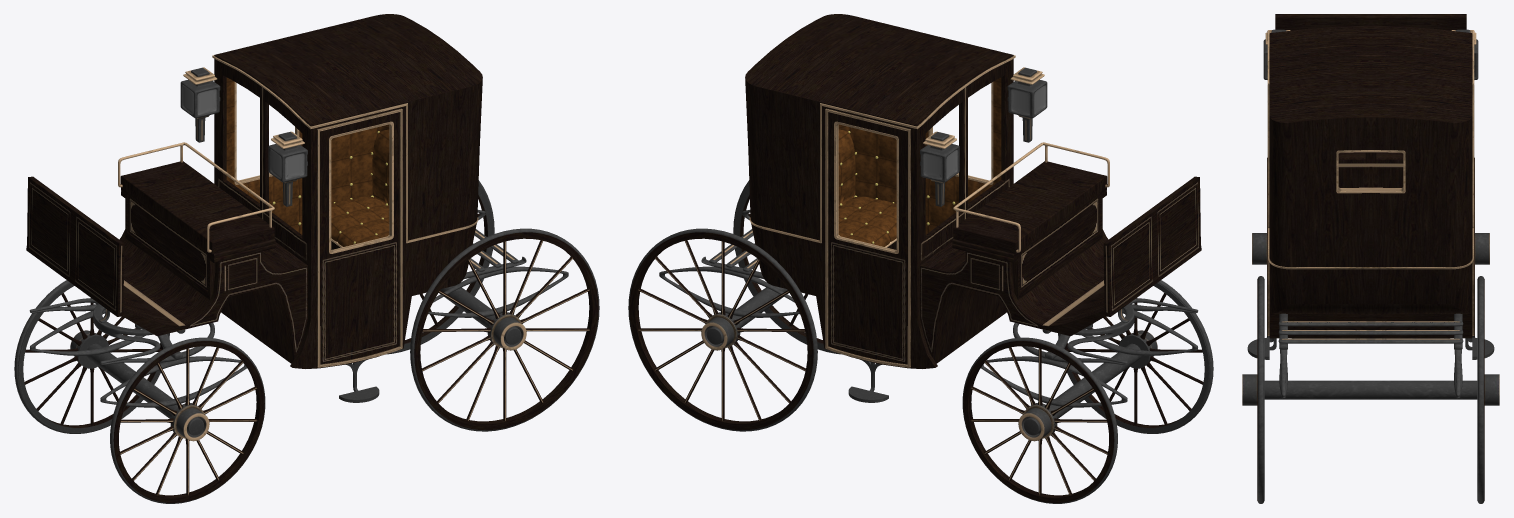
Rendered from kereta.glb.
3 renders of one model, left to right at view 1: azimuth 30°, elevation 25°; view 2: azimuth 150°, elevation 25°; view 3: azimuth 270°, elevation 25°, orthographic. The views are drawn at different scales.
Parts seen in each view (by area): view 1: Cube, Cube.001, Cube.002, Cylinder.002, Cylinder, Plane.003, Cylinder.003, Cube.005, Cylinder.001, Plane.001, BezierCurve, Cube.003 (+6 smaller); view 2: Cube, Cube.001, Cube.002, Cylinder.002, Cylinder, Plane.003, Cylinder.003, Cube.005, Cylinder.001, Plane.001, BezierCurve, Cube.003 (+6 smaller); view 3: Cube, Cylinder, Cube.012, Cube.001, BezierCurve.001, Cylinder.002, BezierCurve, Cube.015, Cube.010, Cube.006, Cube.005, Cube.011.
Part boxes in pixels (bbox=[...]): Cube: bbox=[214, 14, 482, 368]; Cube.001: bbox=[26, 176, 307, 363]; Cube.002: bbox=[120, 161, 275, 299]; Cylinder.002: bbox=[14, 280, 265, 503]; Cylinder: bbox=[386, 180, 599, 431]; Plane.003: bbox=[226, 77, 389, 234]; Cylinder.003: bbox=[24, 293, 257, 495]; Cube.005: bbox=[180, 67, 307, 206]; Cylinder.001: bbox=[419, 213, 589, 420]; Plane.001: bbox=[331, 129, 389, 246]; BezierCurve: bbox=[317, 108, 402, 367]; Cube.003: bbox=[30, 309, 246, 407]; Cube: bbox=[745, 14, 1013, 368]; Cube.001: bbox=[920, 176, 1201, 363]; Cube.002: bbox=[952, 161, 1107, 299]; Cylinder.002: bbox=[962, 280, 1213, 503]; Cylinder: bbox=[628, 180, 841, 431]; Plane.003: bbox=[838, 77, 1001, 234]; Cylinder.003: bbox=[970, 293, 1203, 495]; Cube.005: bbox=[920, 67, 1047, 206]; Cylinder.001: bbox=[638, 213, 808, 420]; Plane.001: bbox=[838, 129, 896, 246]; BezierCurve: bbox=[825, 108, 910, 367]; Cube.003: bbox=[981, 309, 1197, 407]; Cube: bbox=[1269, 25, 1472, 338]; Cylinder: bbox=[1242, 276, 1499, 503]; Cube.012: bbox=[1278, 321, 1463, 343]; Cube.001: bbox=[1275, 14, 1466, 157]; BezierCurve.001: bbox=[1268, 33, 1473, 269]; Cylinder.002: bbox=[1252, 157, 1489, 342]; BezierCurve: bbox=[1267, 42, 1474, 335]; Cube.015: bbox=[1336, 150, 1405, 193]; Cube.010: bbox=[1279, 349, 1462, 398]; Cube.006: bbox=[1247, 337, 1494, 359]; Cube.005: bbox=[1263, 29, 1478, 79]; Cube.011: bbox=[1279, 313, 1462, 349].
Bounding box in the file's own units: 3.89 × 2.71 × 1.71.
3 materials, 2 textured.
